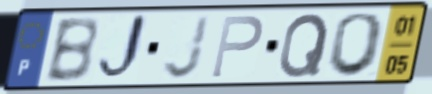B: (42, 15, 101, 85)
J: (94, 11, 150, 86), (161, 13, 213, 81)
O: (324, 10, 389, 79)
P: (208, 14, 265, 81)
Q: (276, 11, 332, 81)
